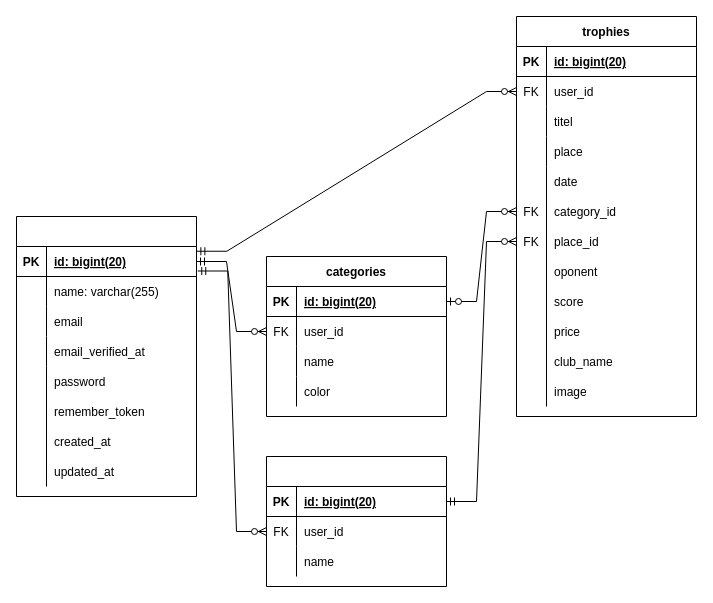
Some shapes in this 713 by 603 pixel diagram are drawn without their labels. The shapes that lost their labels are listed below. From the top down, each one's box as (x1, y1, x2, y2) in pixels, then its label:
(16, 216, 196, 496): users
(266, 456, 446, 586): places
